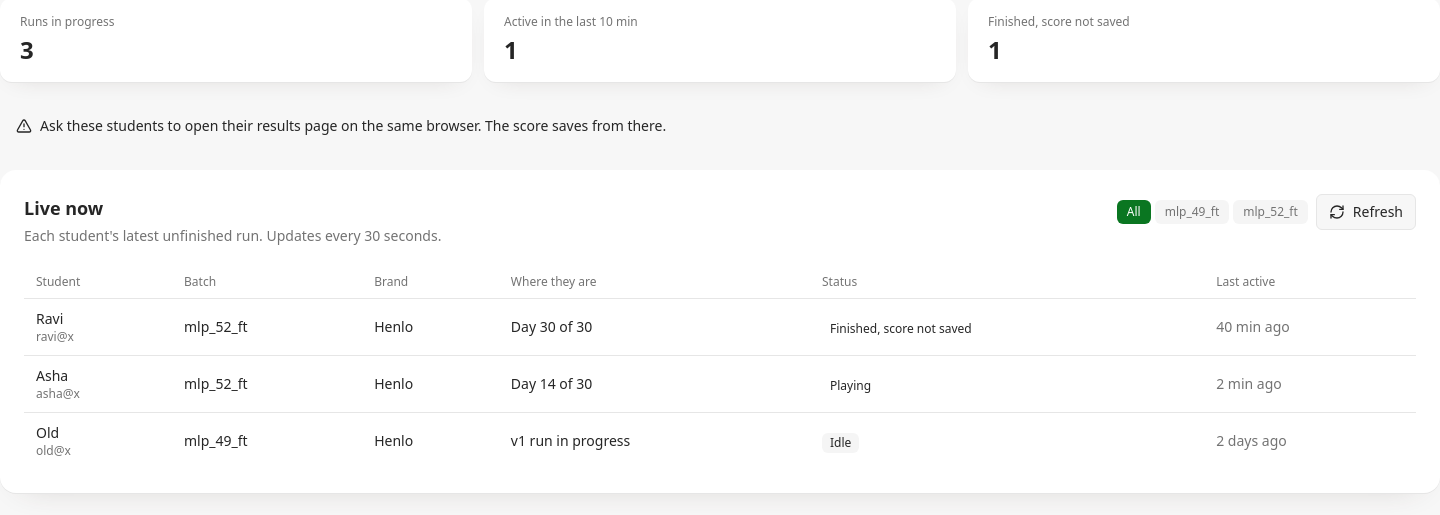
LiveSessionsPanel › filters by batch with its own chips
The image size is (1440, 515).
Click the button "mlp_49_ft" at coordinates (1192, 212), box [1155,200,1229,224]
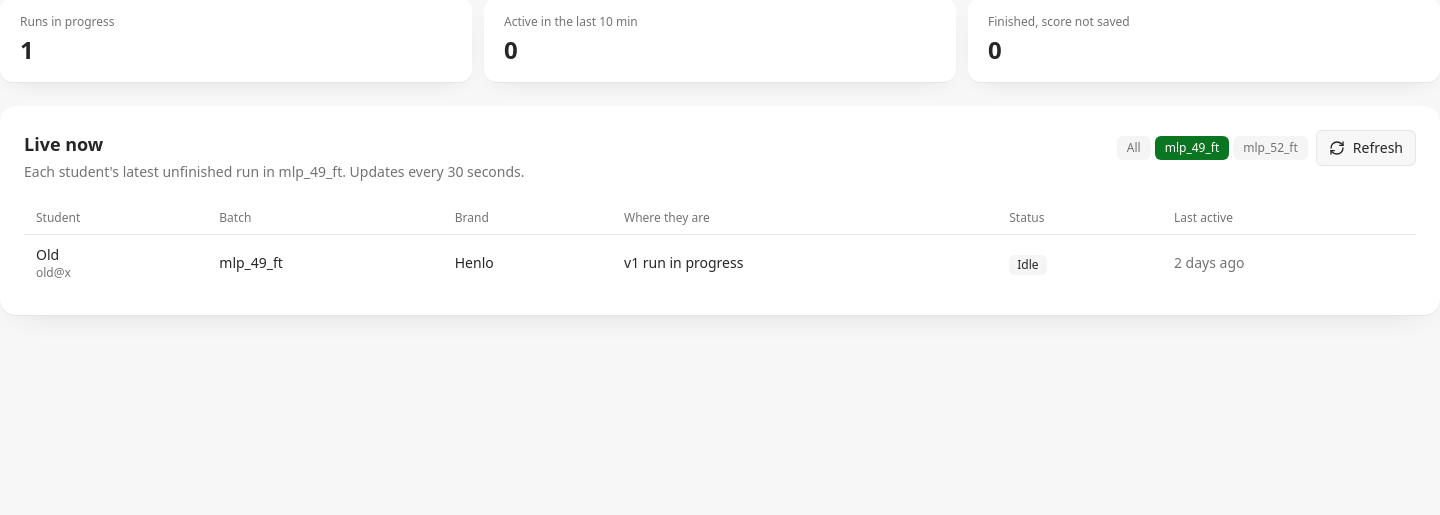
Expected: the text "Old" is shown, [36,245,59,264]
Expected: the number of rows is 2, [24,202,1416,234]; [24,234,1416,291]
